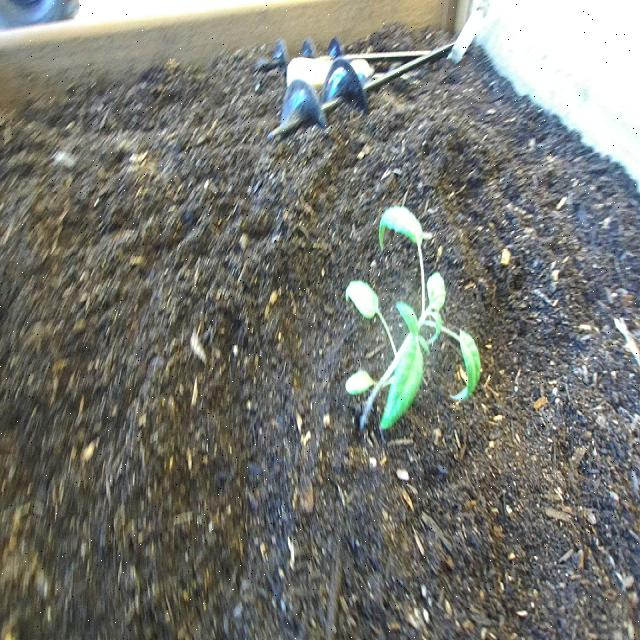Healthy: (334, 198, 488, 438)
